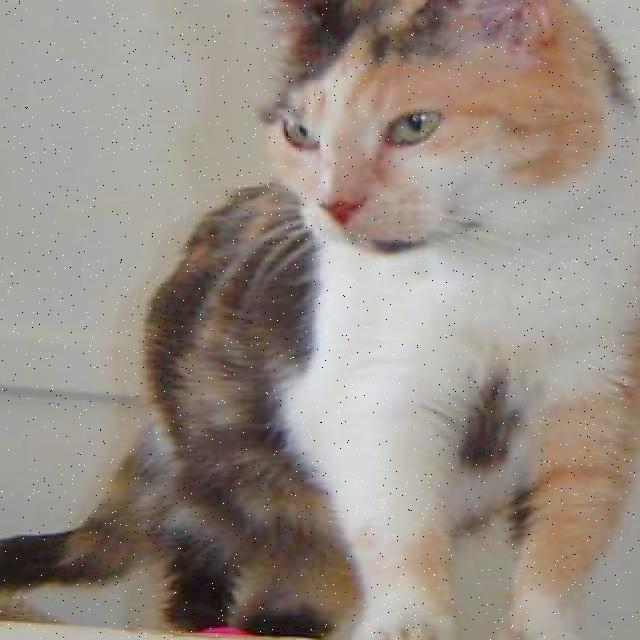Cat: (217, 0, 614, 269)
